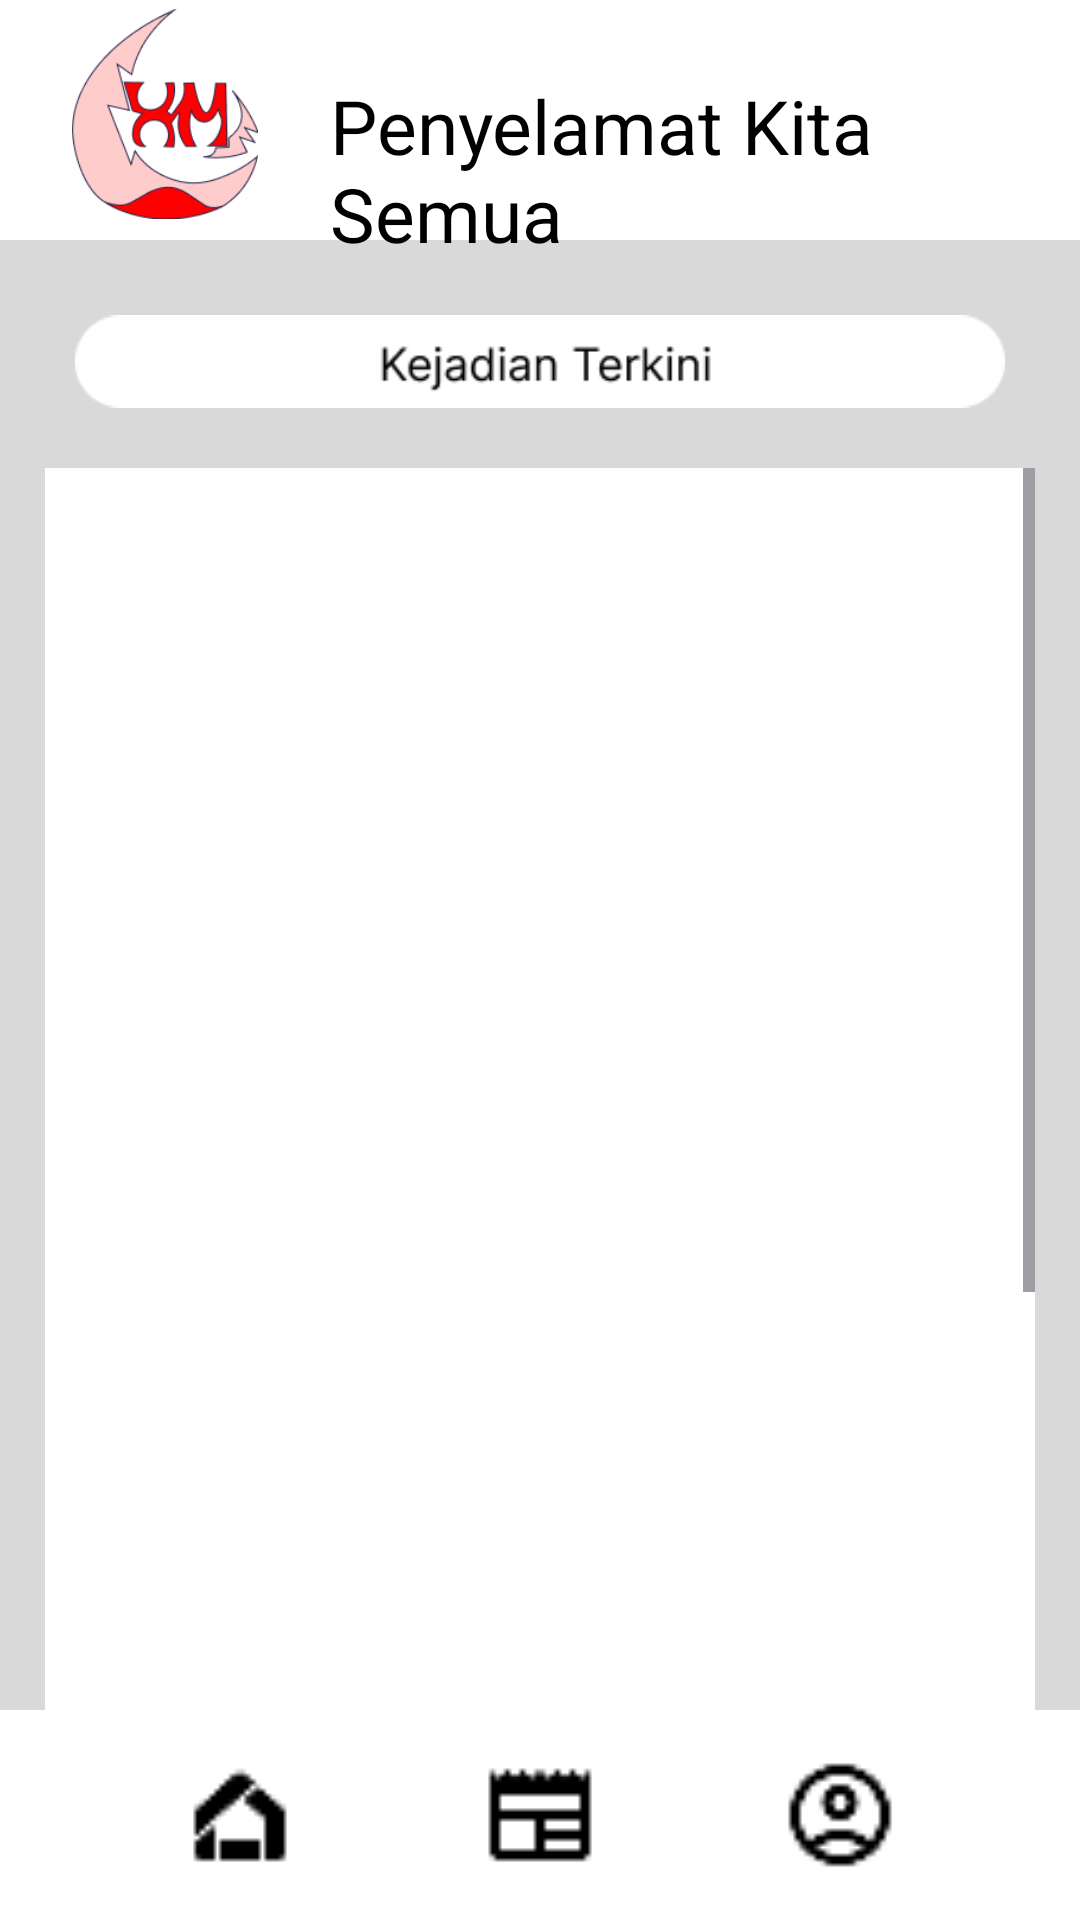

Where icons sit on this 1080w x 1920h app screen, as (x1, y1, x2, y2):
newspaper: (488, 1768, 592, 1862)
